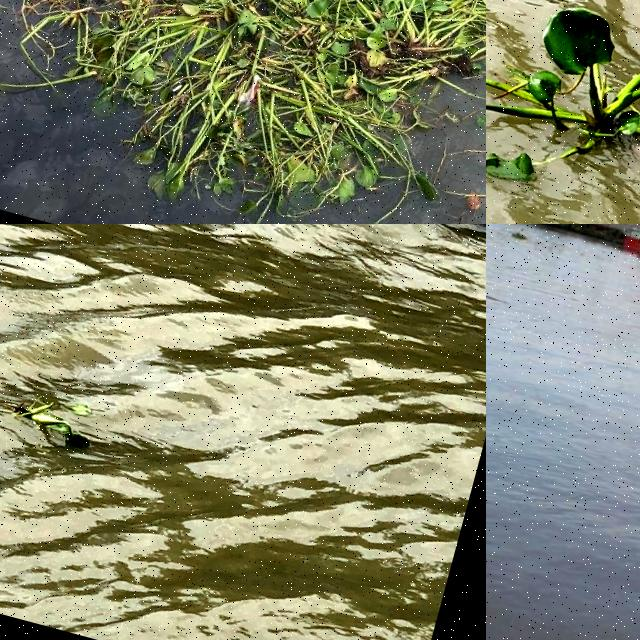water-hyacinth: (1, 1, 487, 225), (487, 1, 640, 225), (13, 378, 105, 452)
